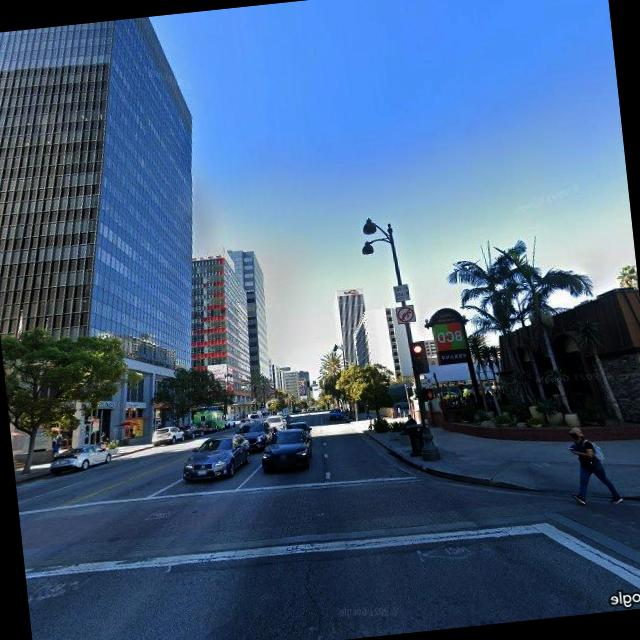pothole: (298, 552, 324, 614)
